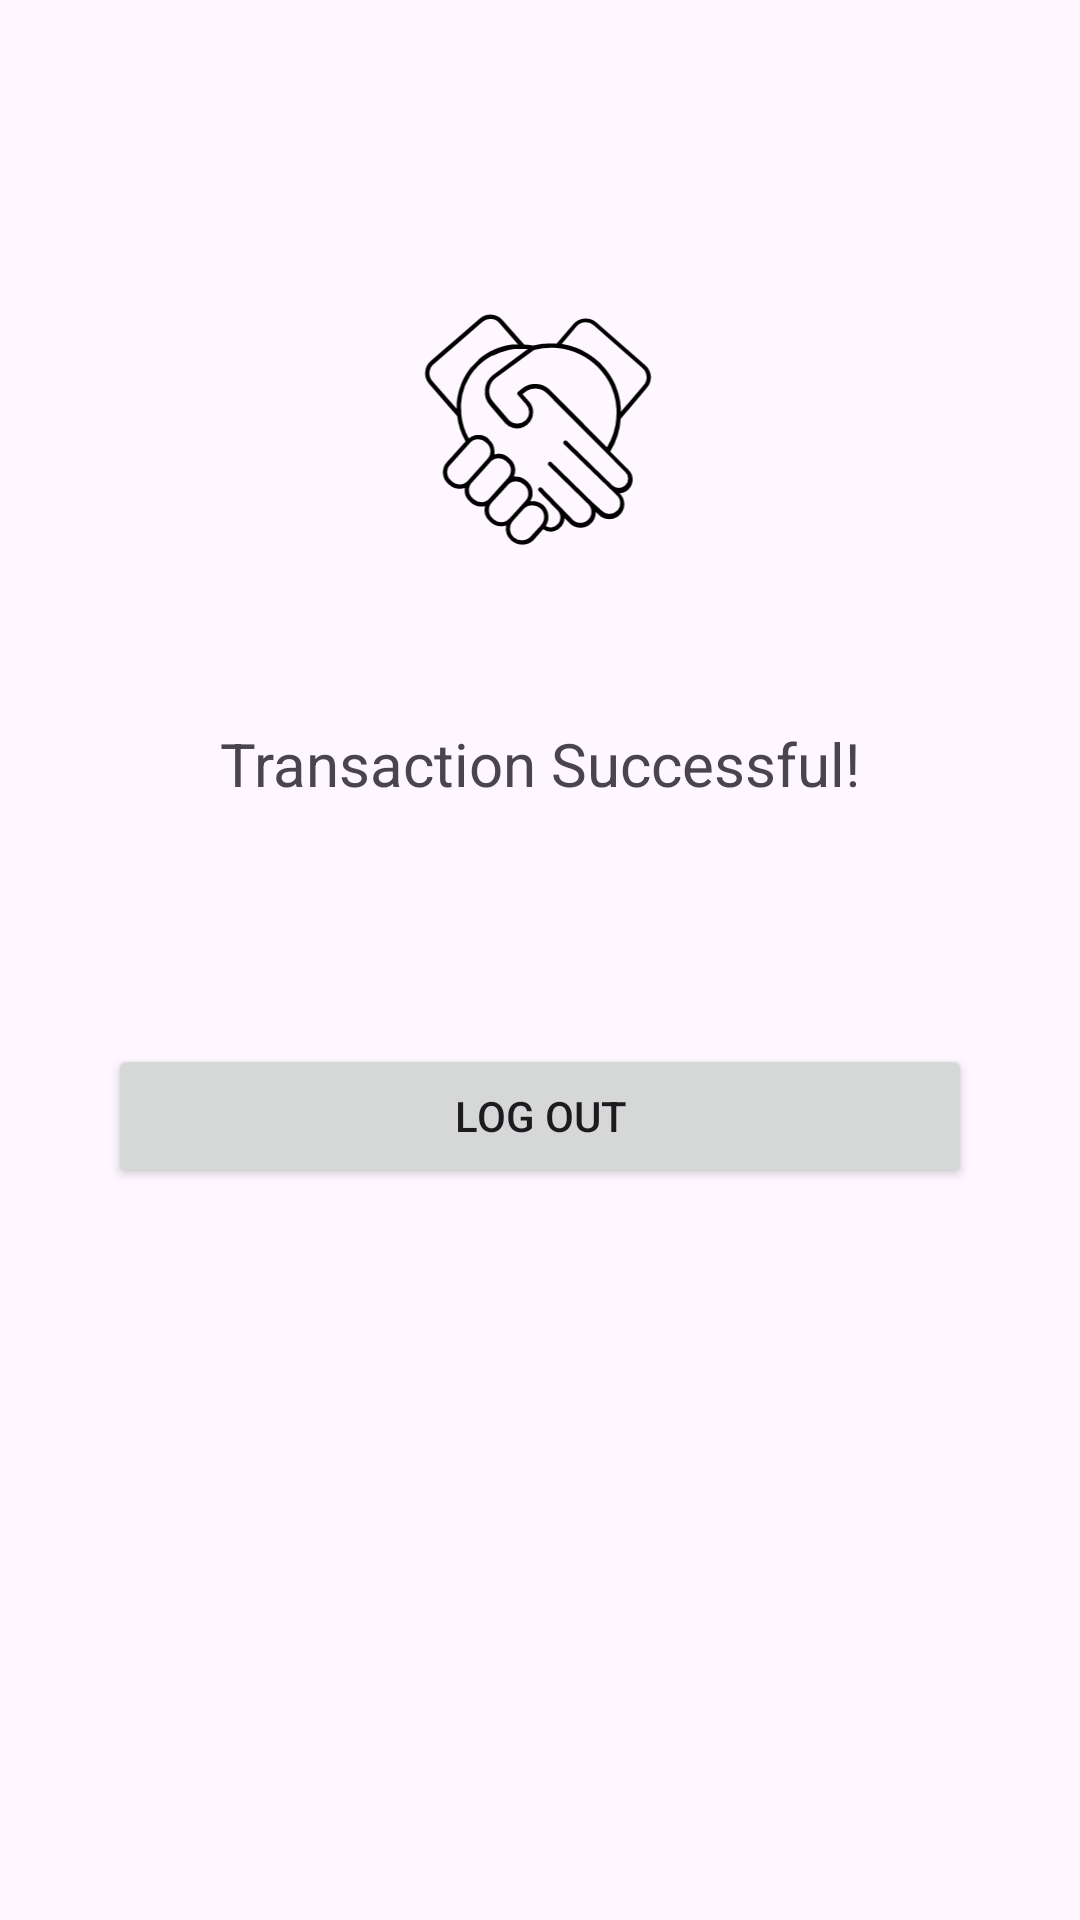

Named icons in this screenshot (1080 × 1920) and their centers, (x=x, y=y):
Success Icon: (x=538, y=429)
